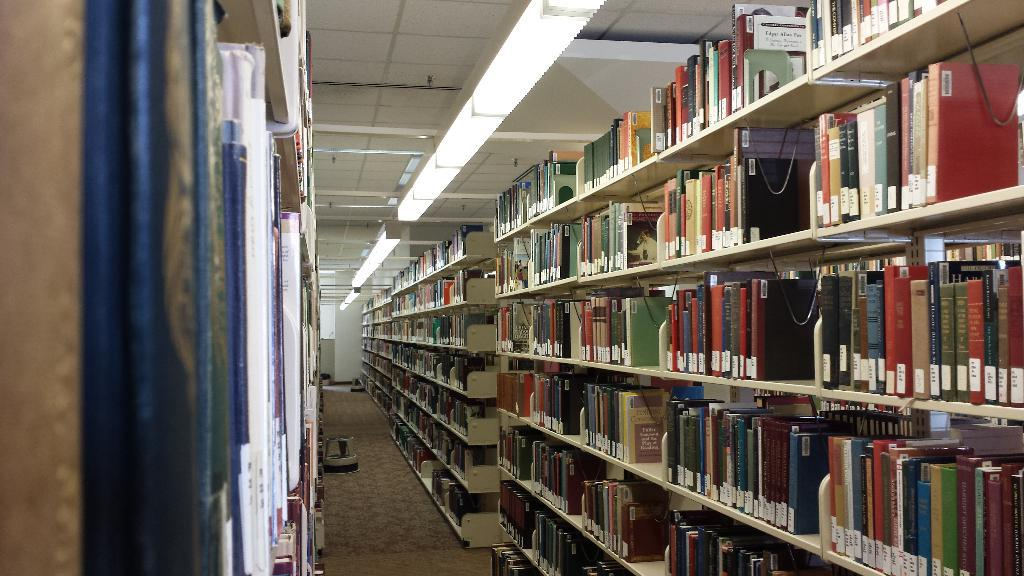Book: (83, 0, 325, 573), (488, 0, 947, 235), (354, 225, 492, 534), (803, 52, 1023, 237), (830, 424, 1023, 575), (816, 262, 1023, 400), (666, 410, 845, 536), (659, 127, 819, 253), (662, 282, 815, 378), (495, 425, 609, 515), (499, 481, 604, 575), (659, 508, 806, 575), (579, 476, 676, 562), (499, 369, 609, 435), (577, 385, 671, 461), (579, 292, 666, 366), (577, 202, 657, 277), (529, 223, 586, 282), (493, 234, 536, 297), (525, 303, 570, 357), (493, 303, 532, 356), (489, 538, 530, 575)
